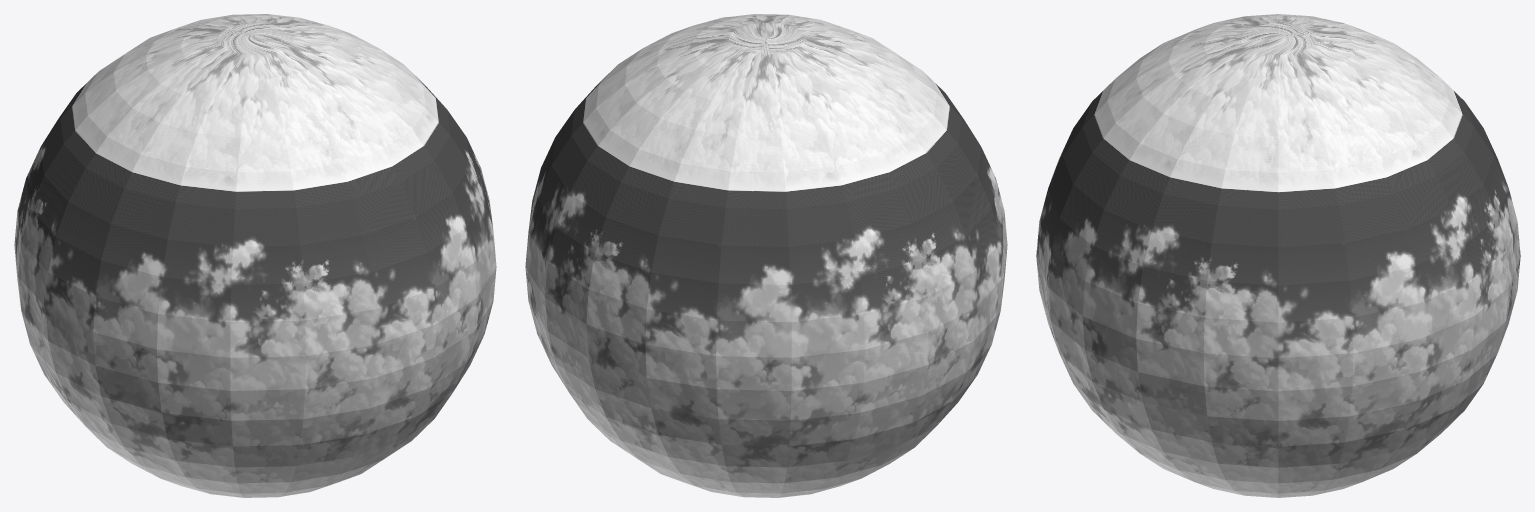
The model's file is SummerSky_bake.dae.
The picture shows the model from 3 angles, left to right: view 1: azimuth 30°, elevation 25°; view 2: azimuth 150°, elevation 25°; view 3: azimuth 270°, elevation 25°; orthographic projection.
Parts seen in each view (by area): view 1: m0, m1; view 2: m0, m1; view 3: m0, m1.
Part boxes in pixels (<box>): m0: <box>14,14,496,493</box>; m1: <box>162,476,355,497</box>; m0: <box>525,14,1007,493</box>; m1: <box>666,476,859,497</box>; m0: <box>1036,14,1520,493</box>; m1: <box>1196,482,1360,497</box>.
Size of the model in its own units: 180000 by 170191 by 180000.
3 materials, 3 textured.
